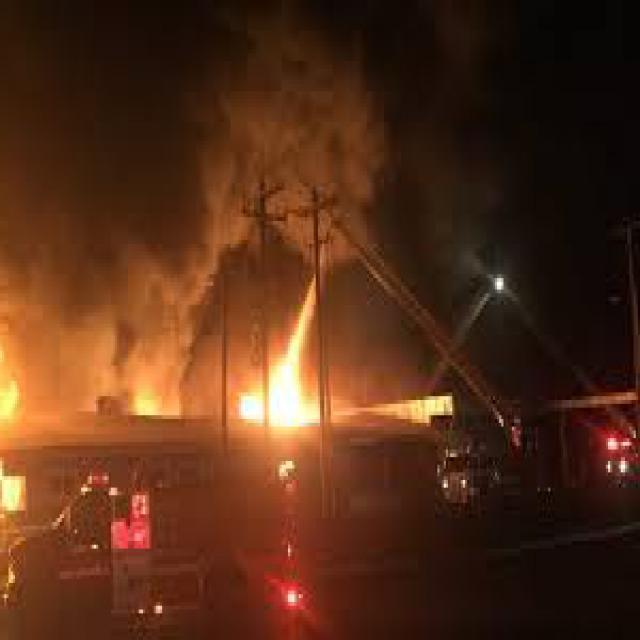Fire: (234, 274, 348, 436)
Smoke: (200, 32, 382, 220)
